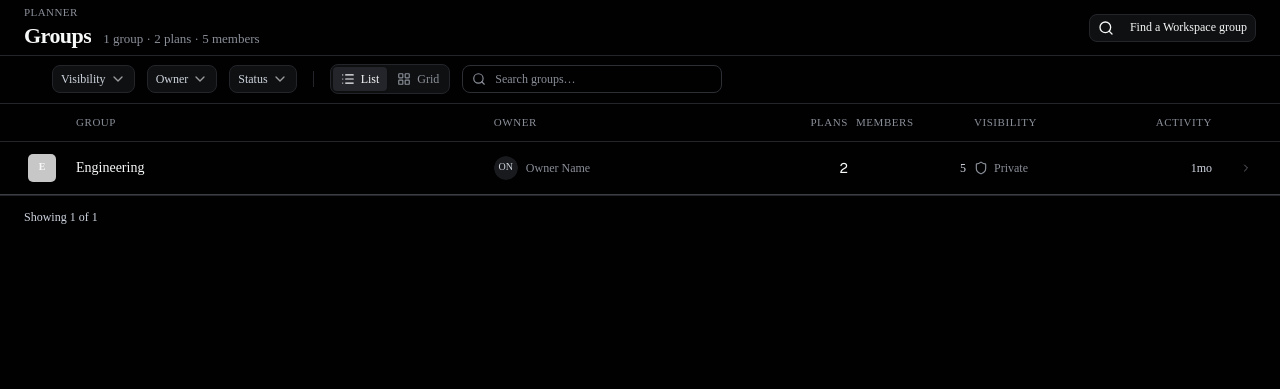
it: GroupsPage › renders table by default, toggles to grid on segmented click
The image size is (1280, 389).
Check: the text "Engineering" is shown, box [76,160,144,174]
Check: the text "Group" is shown, box [76,116,116,128]
Switch to grid
Click the tab "Grid": click(418, 79) [389,67,447,91]
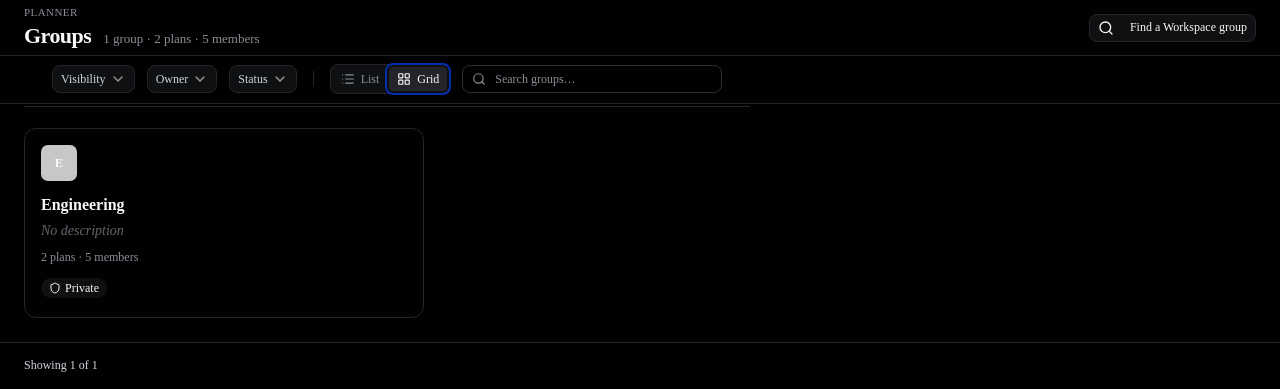
Check: the text "1 group · 2 plans · 5 members" is shown, box [103,29,260,49]
Check: the text "Activity" is gone
